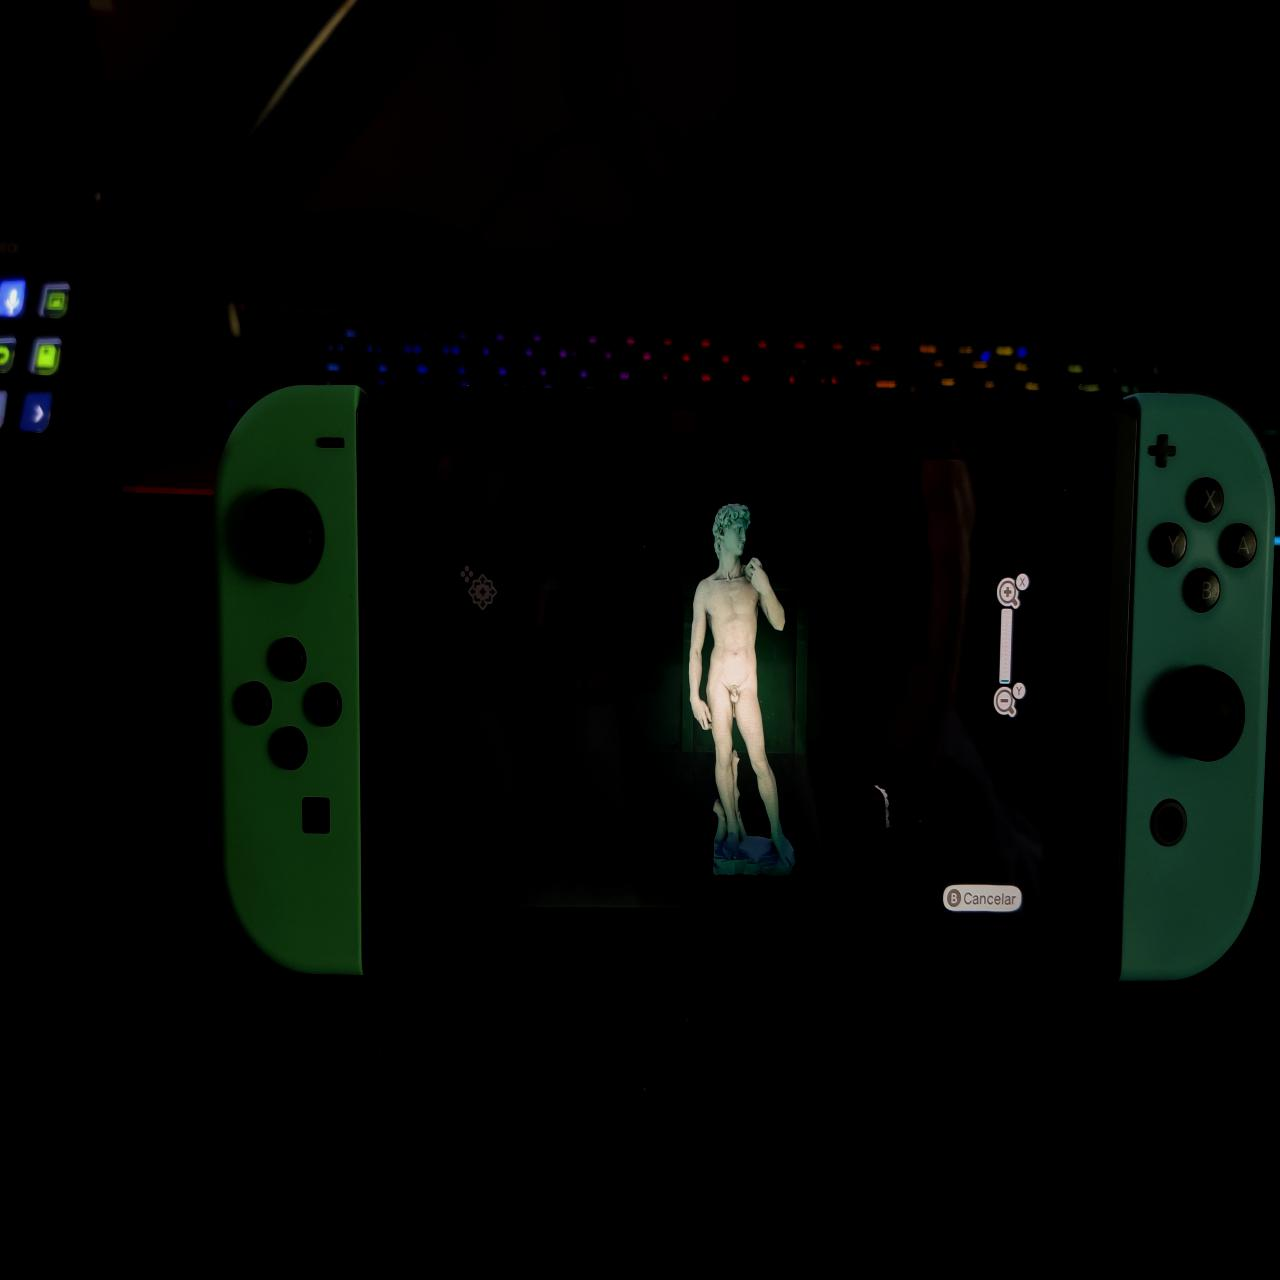David: (686, 499, 799, 880)
